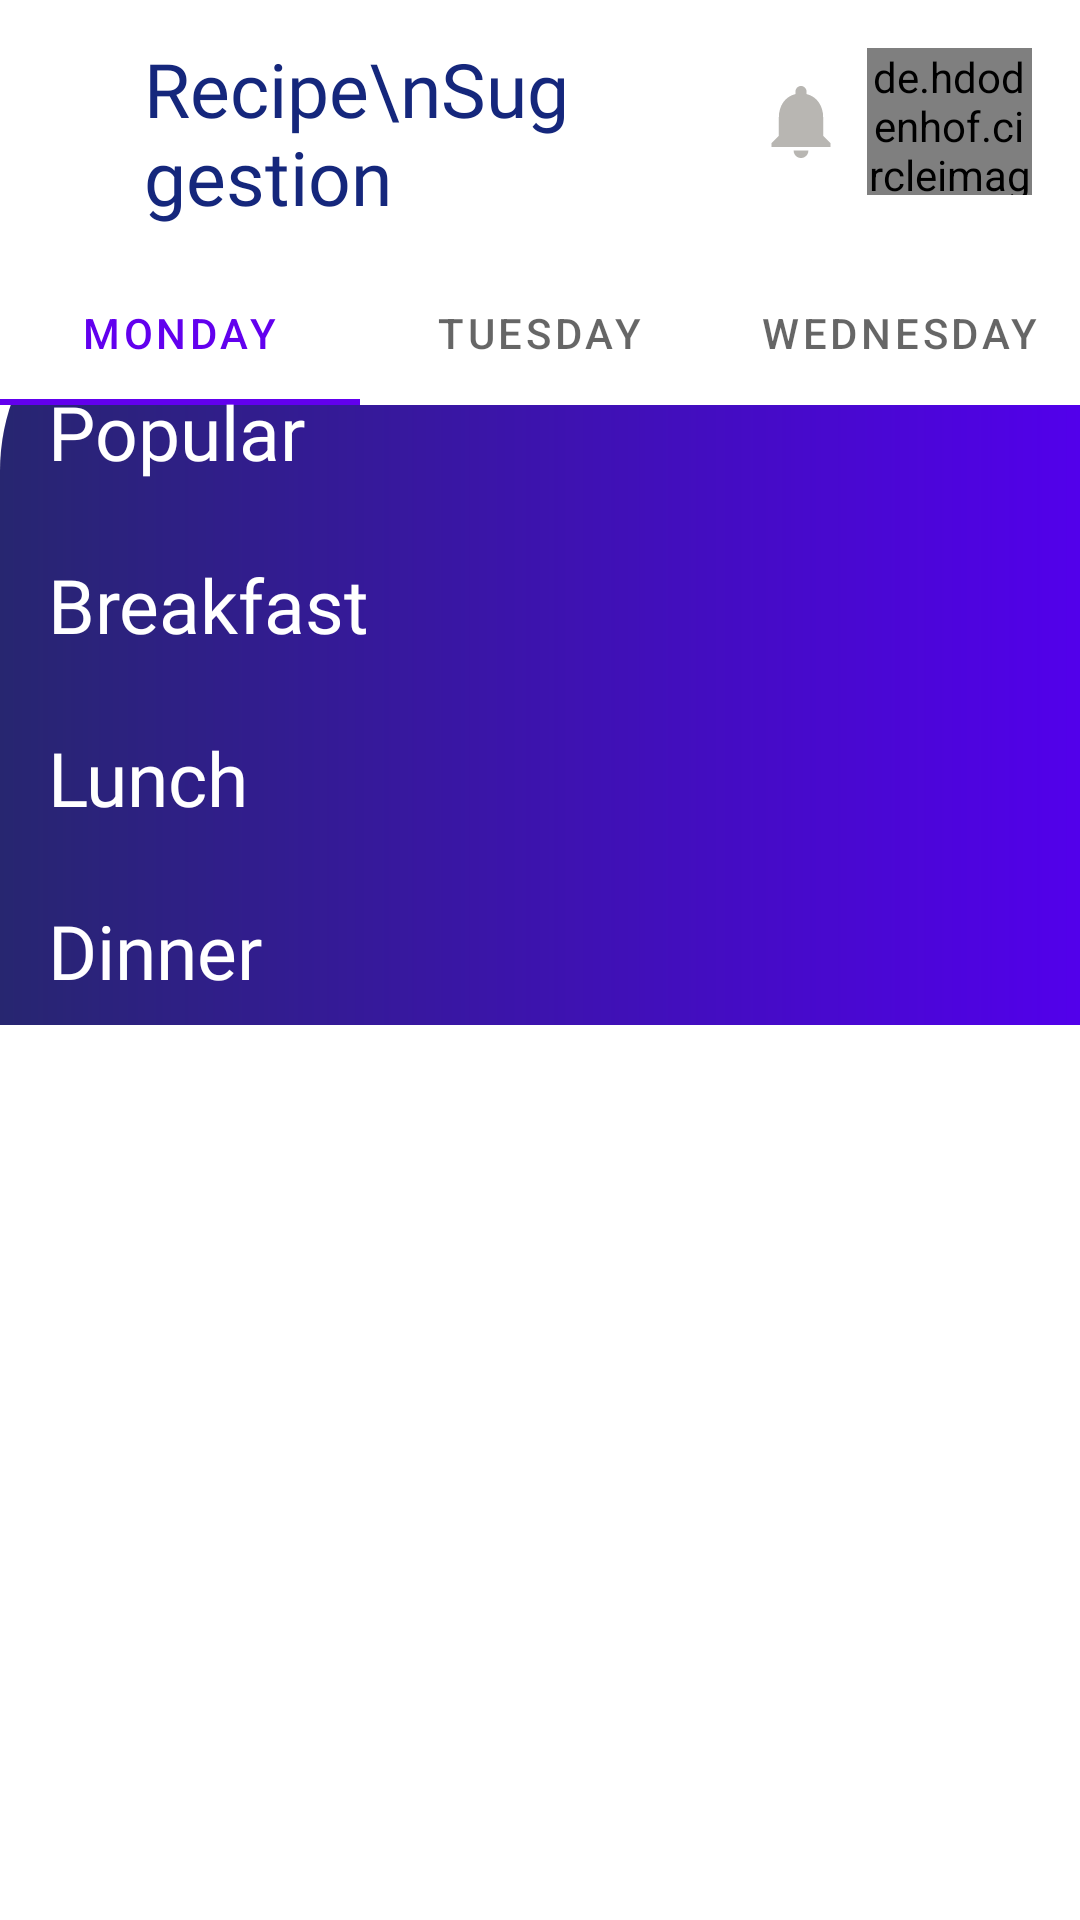

Named icons in this screenshot (1080px x 1920px) and their centers, (x=x, y=y):
notification: (x=801, y=122)
